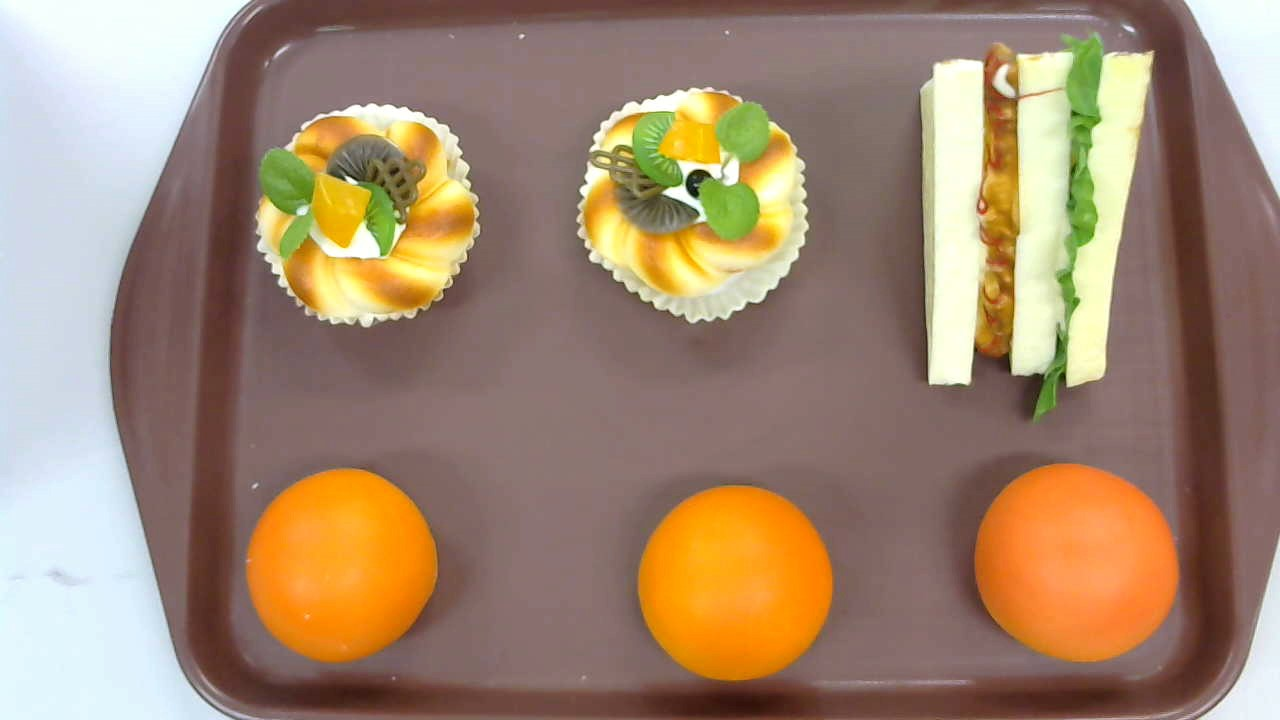bun: (975, 462, 1179, 662), (636, 484, 833, 679), (245, 466, 438, 662)
fruit tart: (573, 85, 811, 325), (255, 103, 482, 328)
sandwich: (919, 29, 1154, 424)
